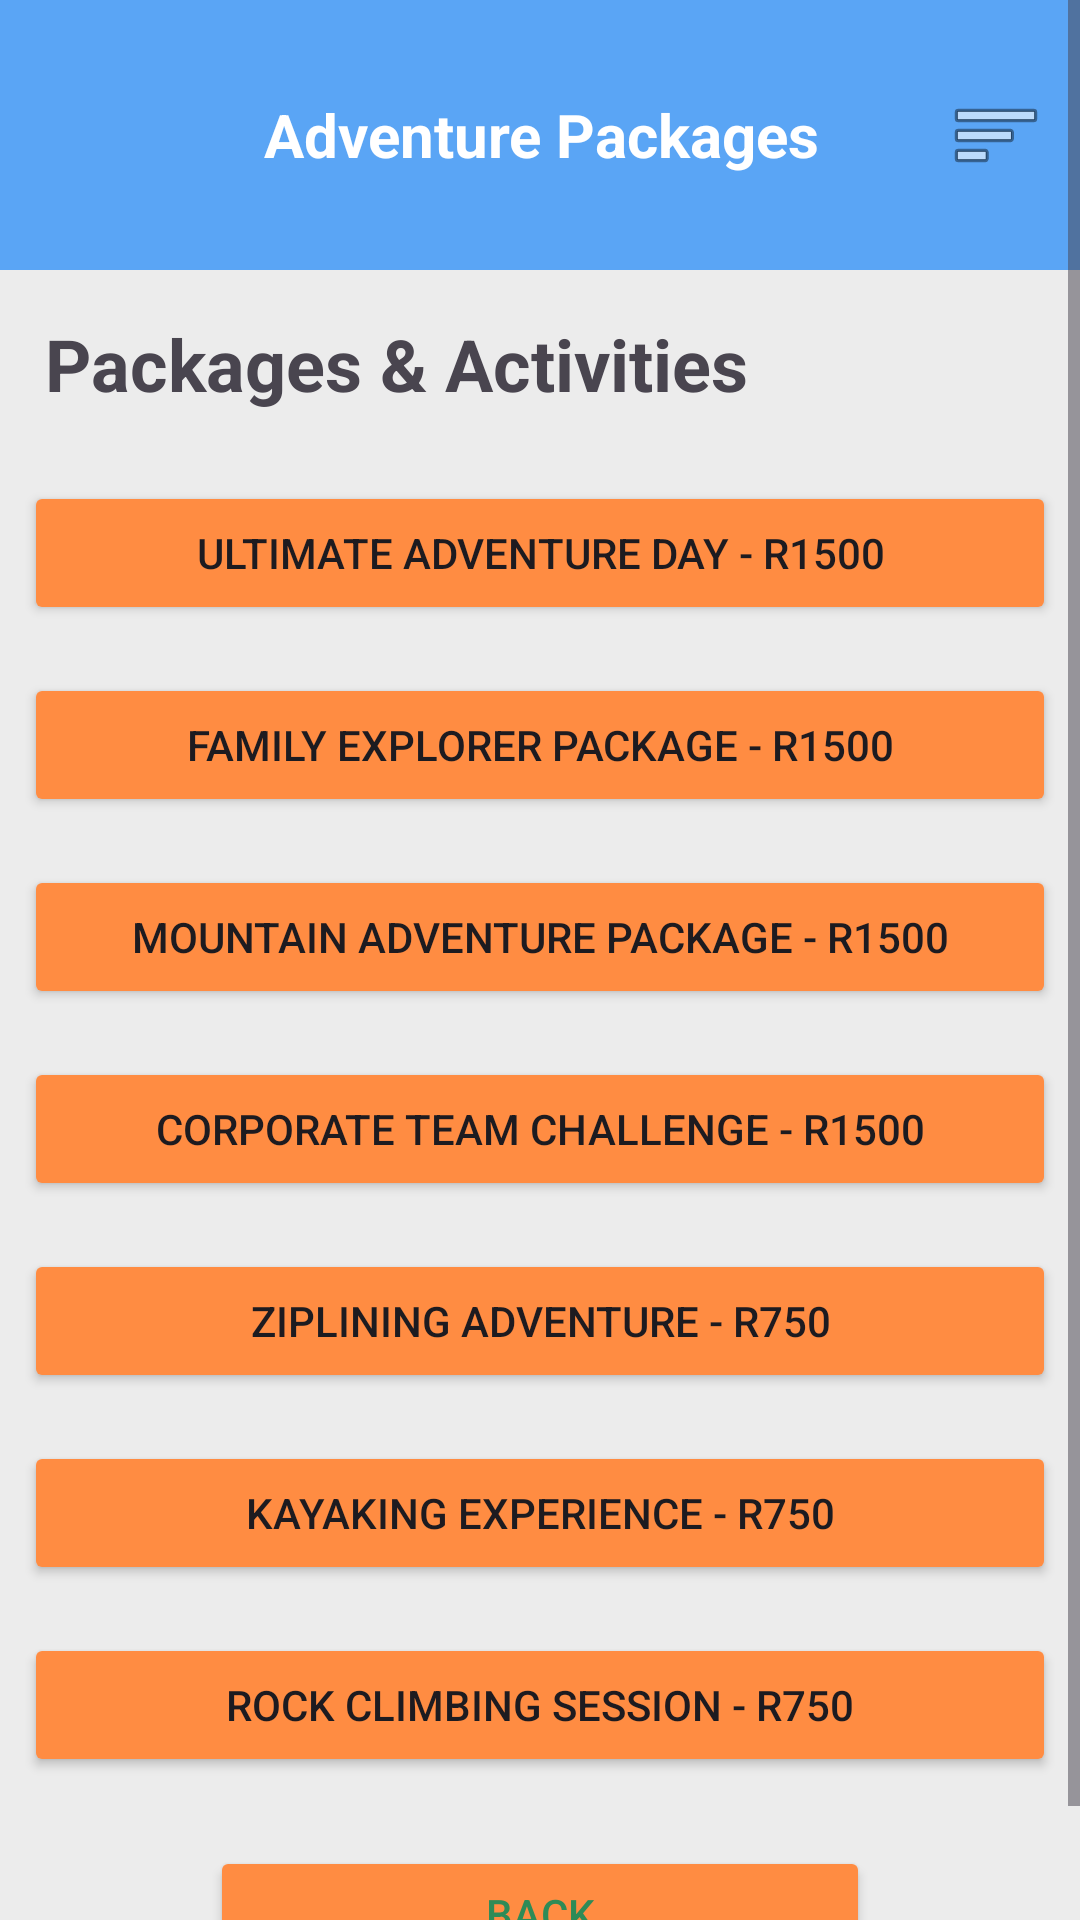

Icon click points for this 1080x1920 phone screenshot, format (x,y):
sort by size: (996,135)
